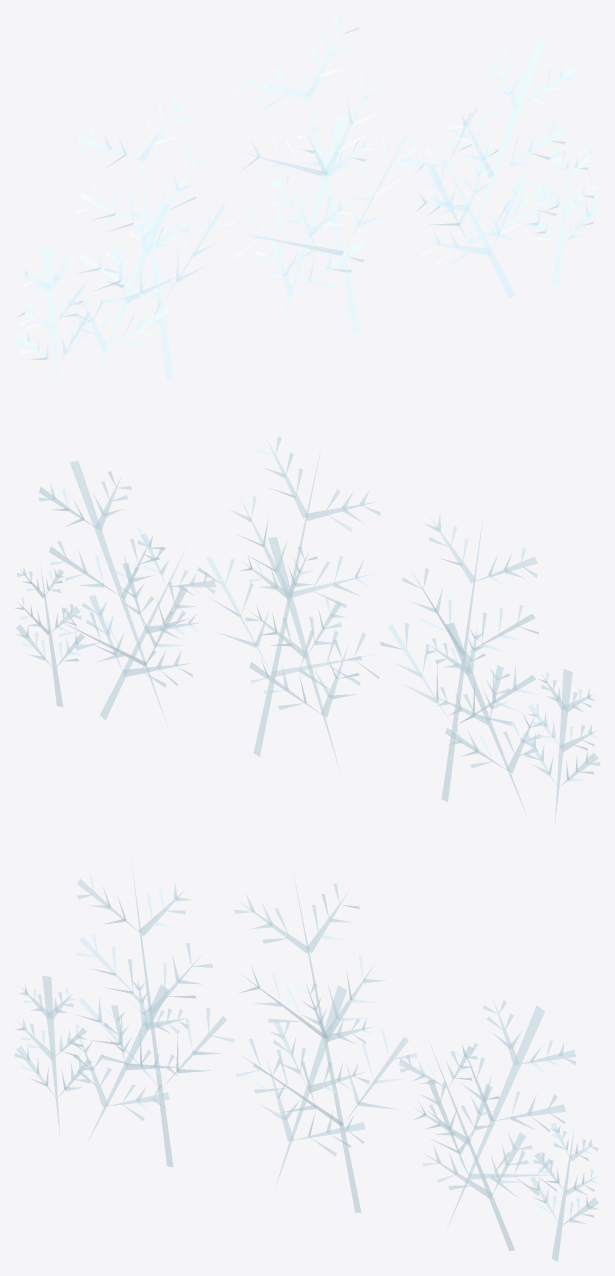
File: frost_fern_glass_lod2.glb
3 views of the same model, one above another, from view 1: azimuth 30°, elevation 25°; view 2: azimuth 150°, elevation 25°; view 3: azimuth 330°, elevation 25° (orthographic).
Parts seen in each view (by area): view 1: frost_fern_glass.001; view 2: frost_fern_glass.001; view 3: frost_fern_glass.001.
Part boxes in pixels (box(x1,y1,x2,y2)): frost_fern_glass.001: box(14, 15, 600, 402); frost_fern_glass.001: box(15, 436, 600, 823); frost_fern_glass.001: box(14, 863, 599, 1261).
Bounding box in the file's own units: 36.6 × 19.94 × 0.0853.
